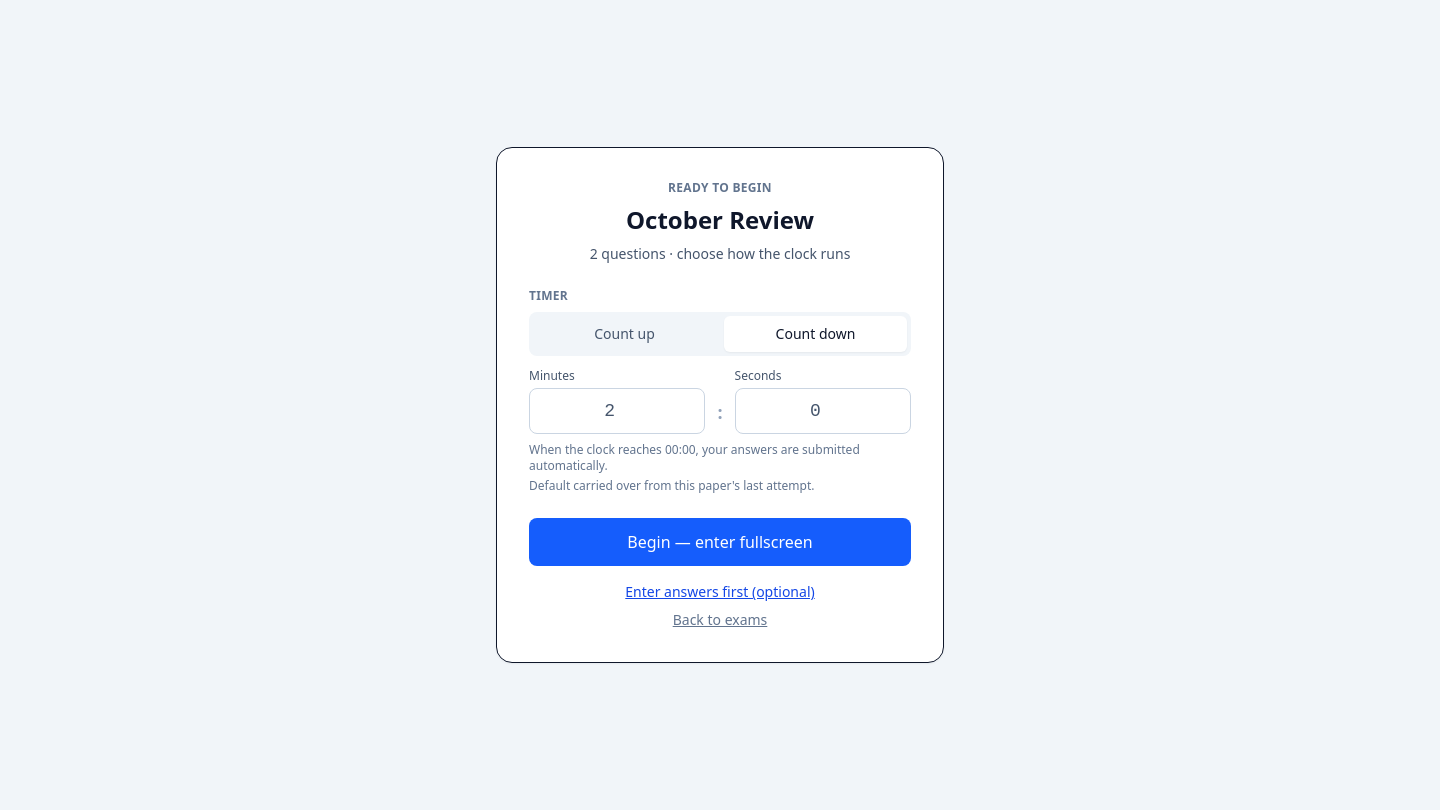
Scenario: PracticePage timer › defaults to the timer used by this paper's last attempt
Expected: the text "Ready to begin" is shown, [668, 179, 772, 196]
Expected: the number field labelled "Minutes" holds "2", [529, 388, 705, 434]
Click the button "Begin — enter fullscreen": (720, 542) [529, 518, 911, 566]
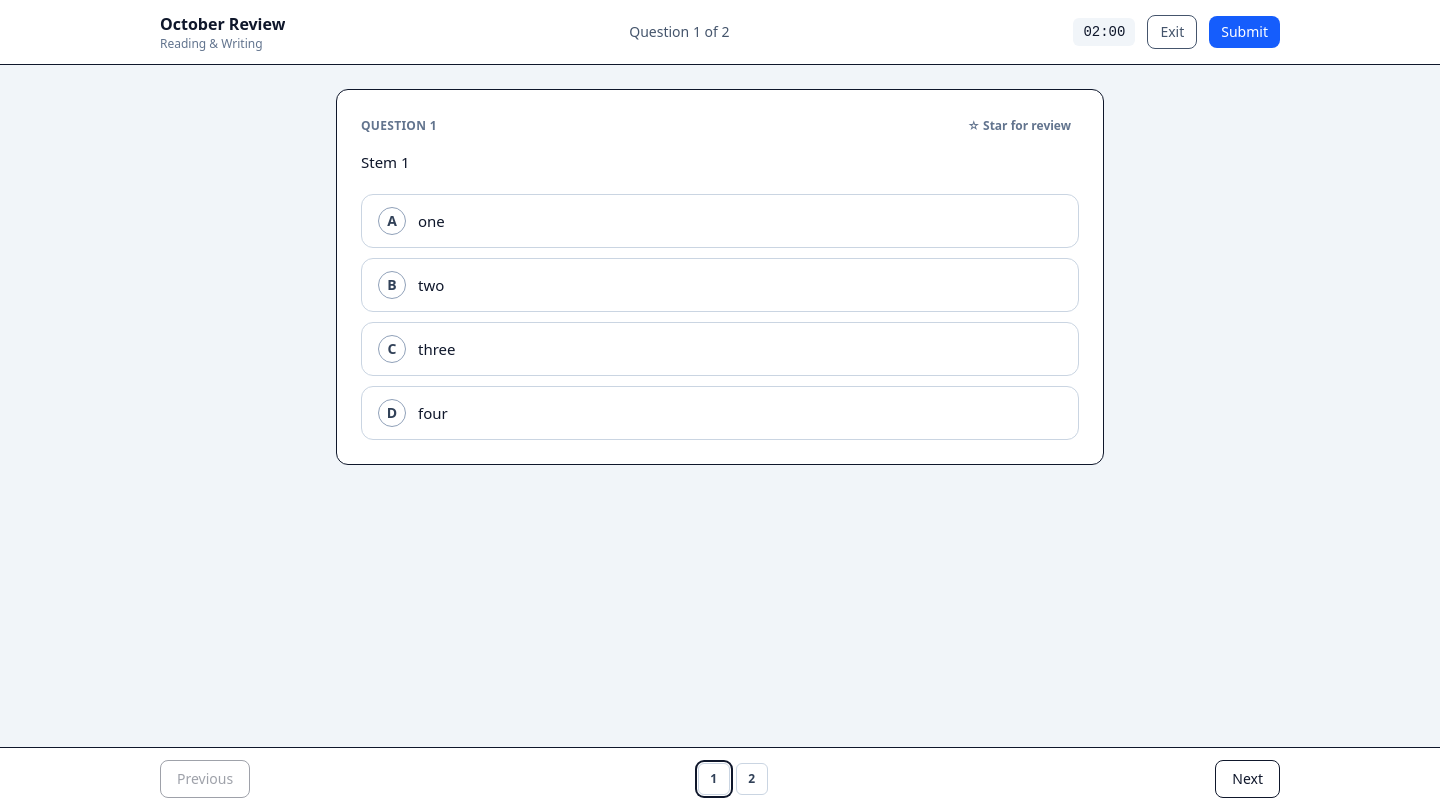
Result: the button "Exit" is shown at [1147, 15, 1197, 49]
